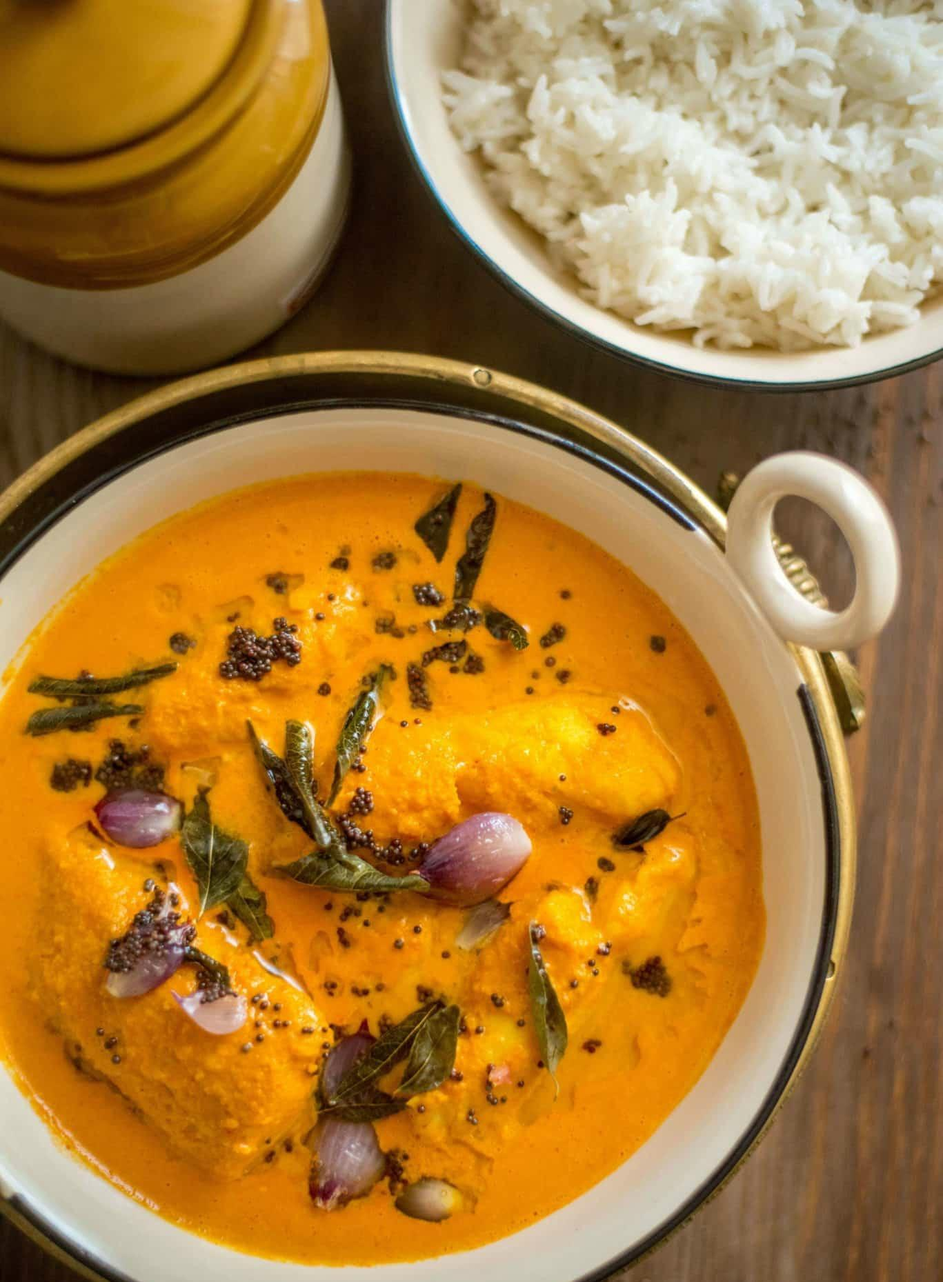FishCurry: (0, 472, 760, 1257)
WhiteRice: (435, 0, 943, 348)
